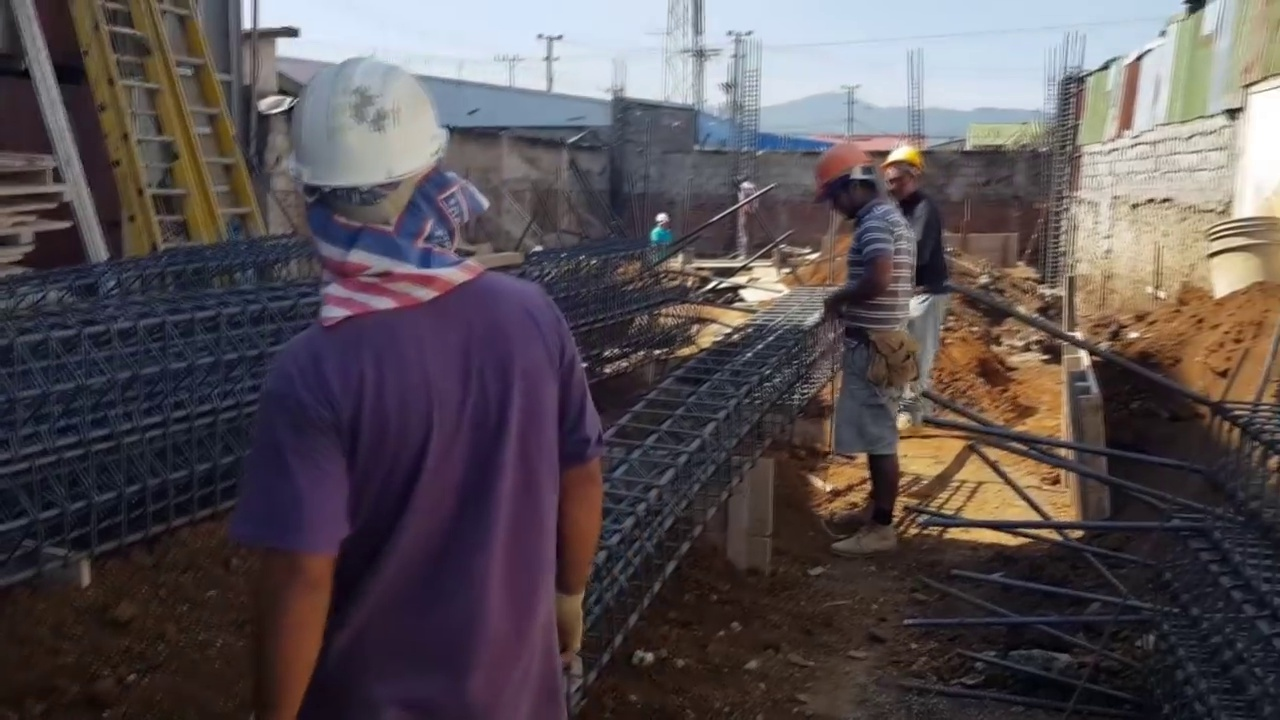helmet: (280, 55, 442, 187), (812, 147, 865, 194), (880, 140, 927, 174), (655, 212, 669, 223)
helmet-off: (735, 172, 747, 185)
helmet-on: (279, 53, 453, 310), (812, 146, 882, 223), (879, 138, 926, 202), (654, 212, 671, 233)
person: (235, 41, 600, 717), (816, 132, 921, 538), (891, 134, 958, 396), (732, 171, 758, 265), (649, 211, 672, 261)
